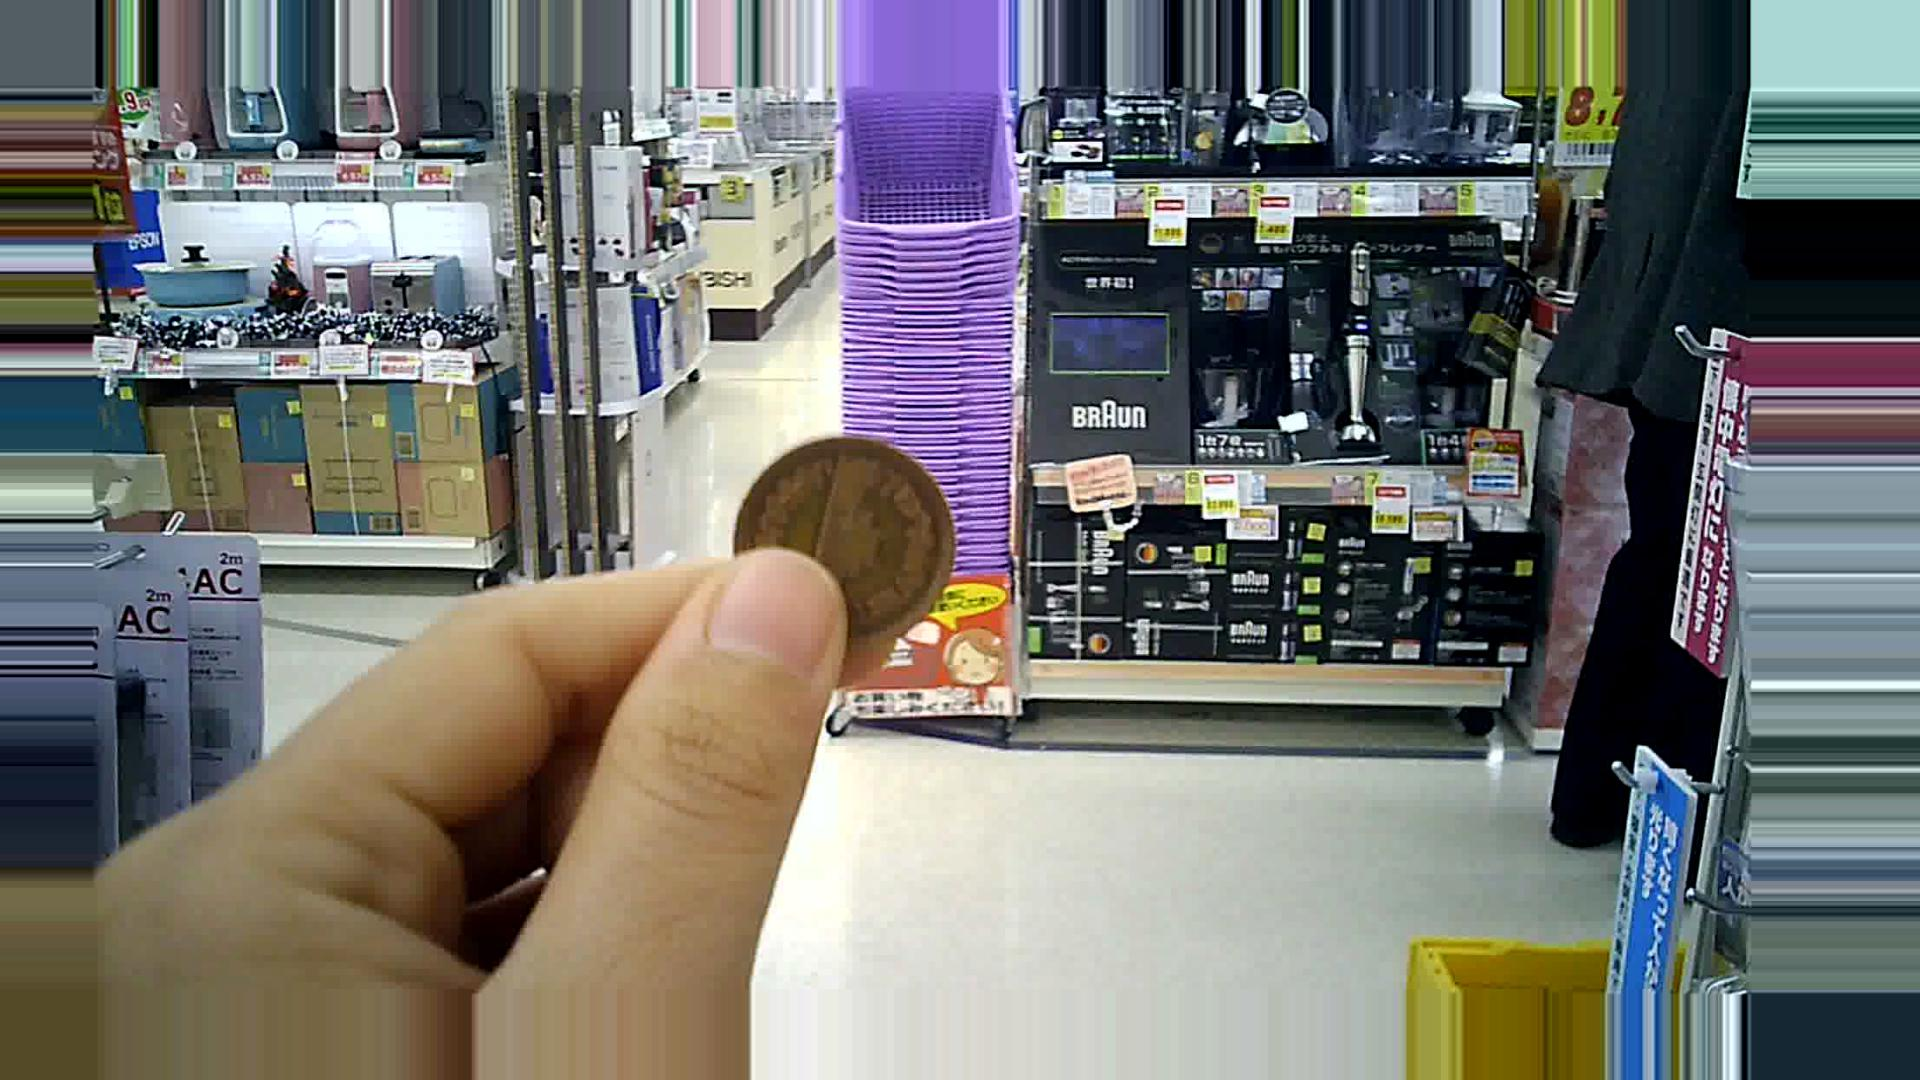10 Yen: (712, 422, 949, 659)
